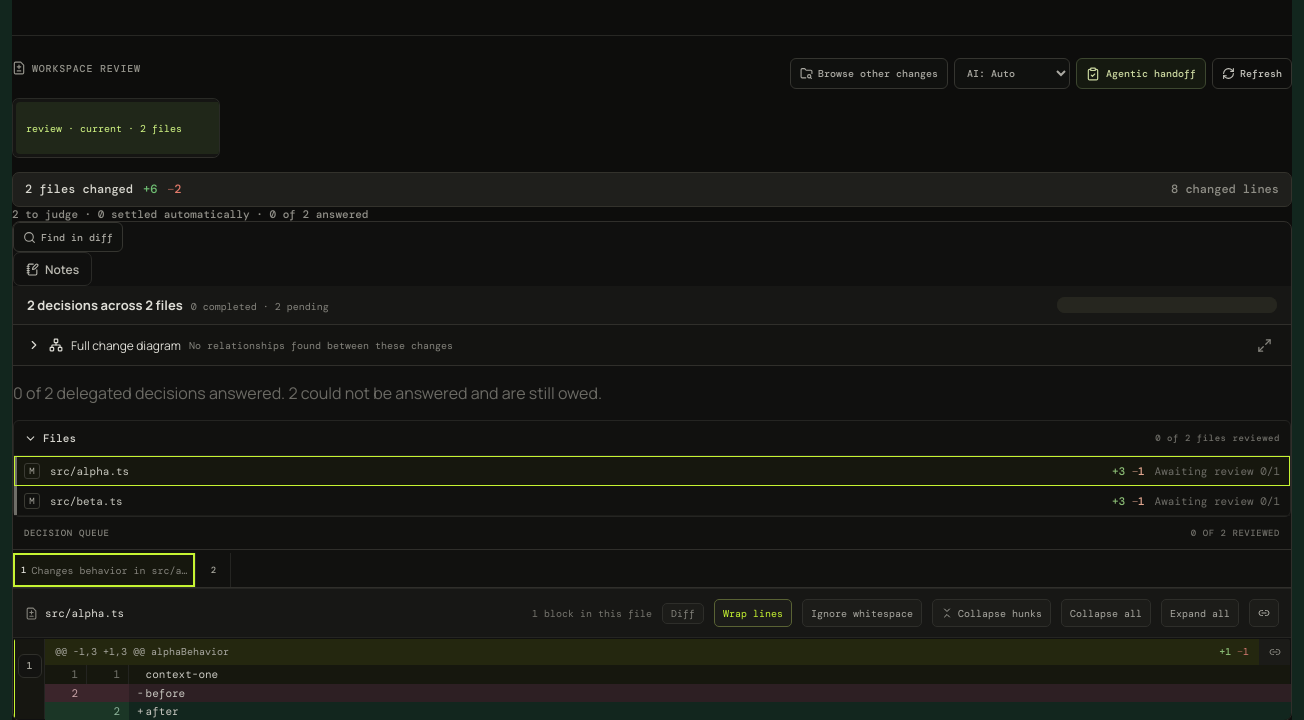
Test case: WorkspaceDiffView file navigator › opens the chosen file’s diff from the list
This screenshot has width=1304, height=720.
Check: the element named "Full diff for src/alpha.ts" is shown, box [13,589,1291,719]
What coordinates should you click on to do the following:
click the button with aria-label "src/beta.ts,"
I would click on:
 (86, 501)
Its box is [14,486,1290,516].
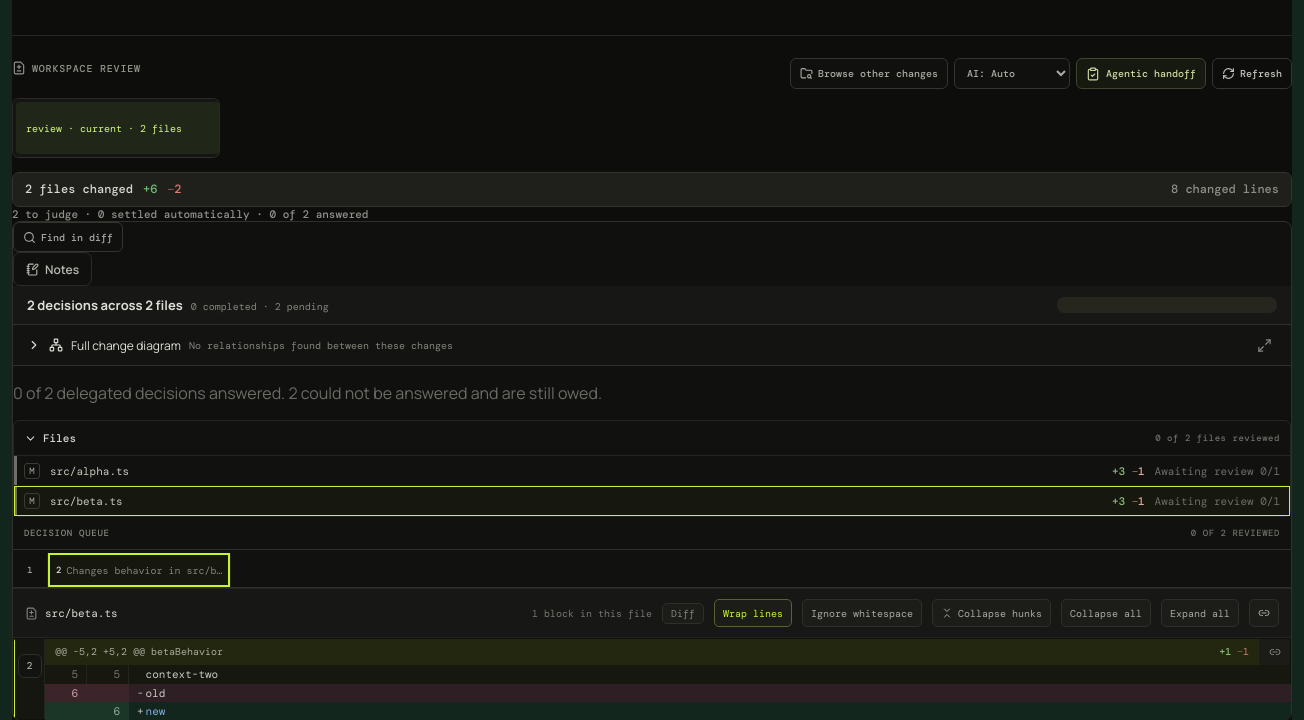
Check: the element named "Full diff for src/beta.ts" is shown, box [13,589,1291,719]
